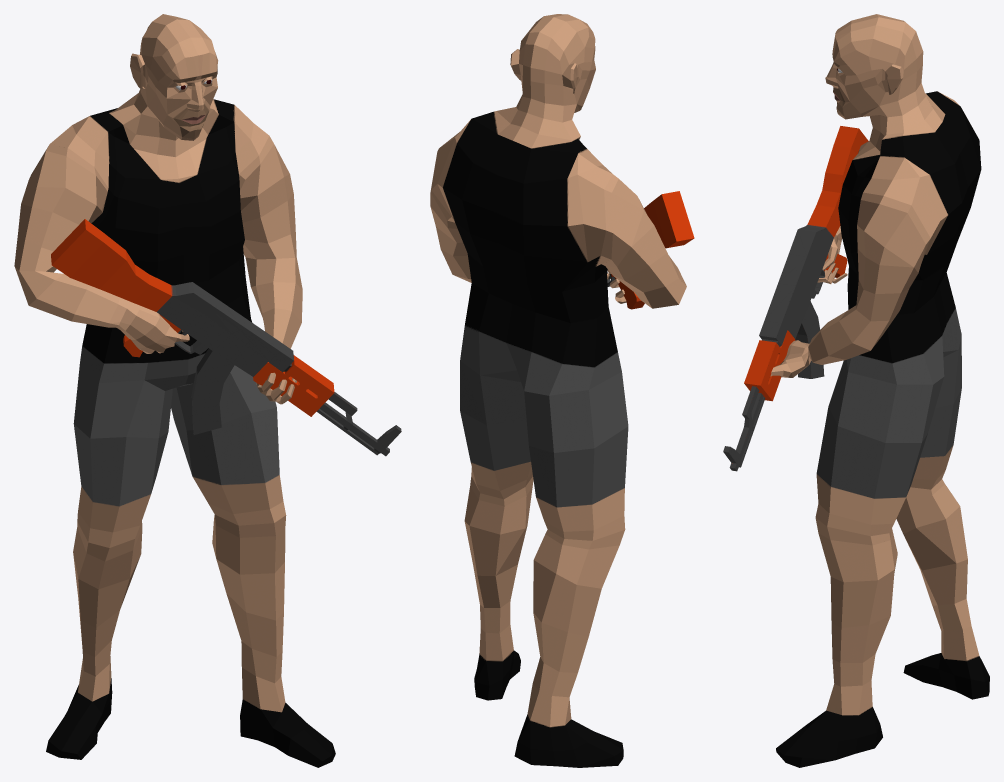
Rendered from PlayerIdle(19).obj.
3 views of the same model, side by side, from view 1: azimuth 30°, elevation 25°; view 2: azimuth 150°, elevation 25°; view 3: azimuth 270°, elevation 25° (orthographic). The views are drawn at different scales.
Visible parts, largest first — view 1: Plane002, Object001; view 2: Plane002, Object001; view 3: Plane002, Object001.
Part boxes in pixels (box(x1,y1,x2,y2)): Plane002: box(14, 14, 335, 767); Object001: box(51, 219, 401, 456); Plane002: box(430, 14, 686, 767); Object001: box(607, 191, 694, 309); Plane002: box(770, 14, 989, 767); Object001: box(723, 126, 868, 471).
Size of the model in its own units: 748 by 1809 by 628.
